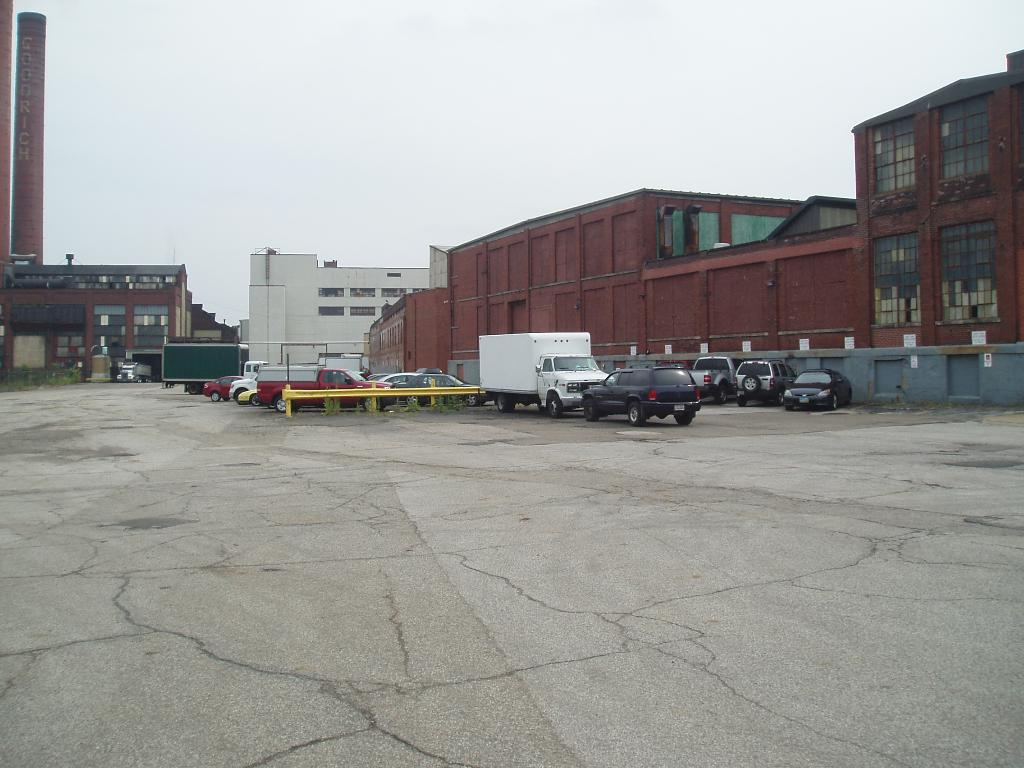mobil: (586, 372, 706, 433), (781, 370, 851, 412)
